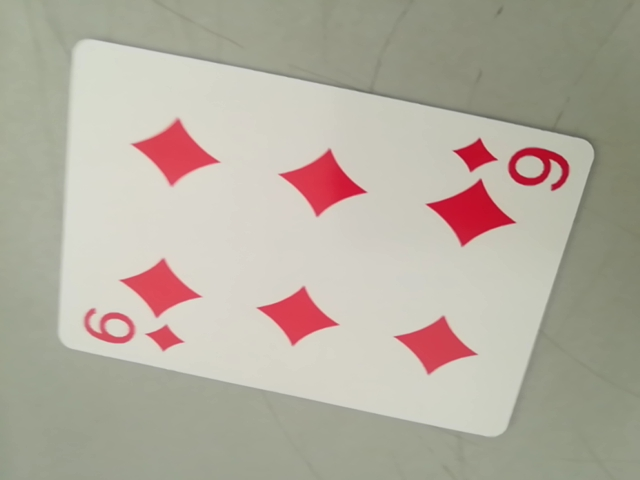fk 6: (448, 136, 573, 191), (71, 306, 192, 358)
